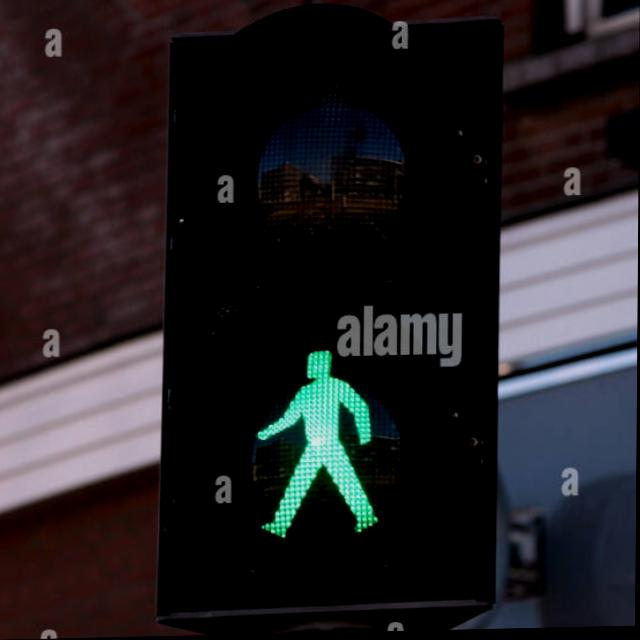green_light: (258, 350, 372, 546)
